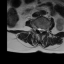CCS_normal: (40, 27, 42, 35)
LFS_normal: (44, 27, 46, 32)
LLS_normal: (42, 27, 44, 32)
RFS_normal: (36, 26, 38, 31)
RLS_normal: (38, 26, 40, 32)
